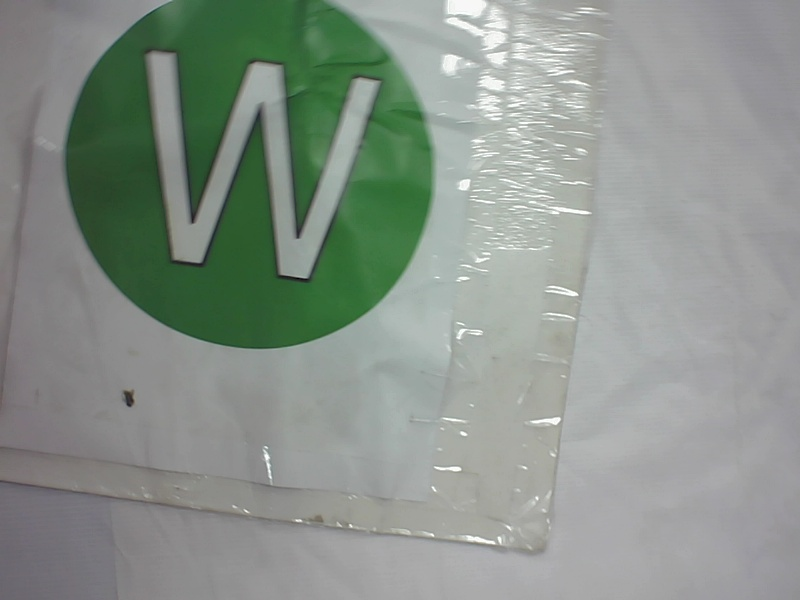areaB: (49, 6, 442, 360)
